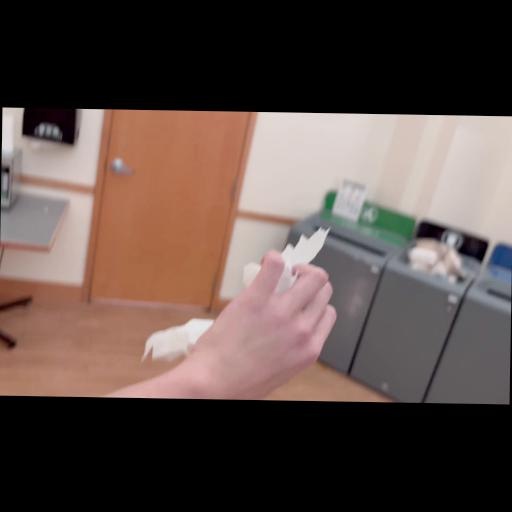napkin: (140, 222, 331, 376)
